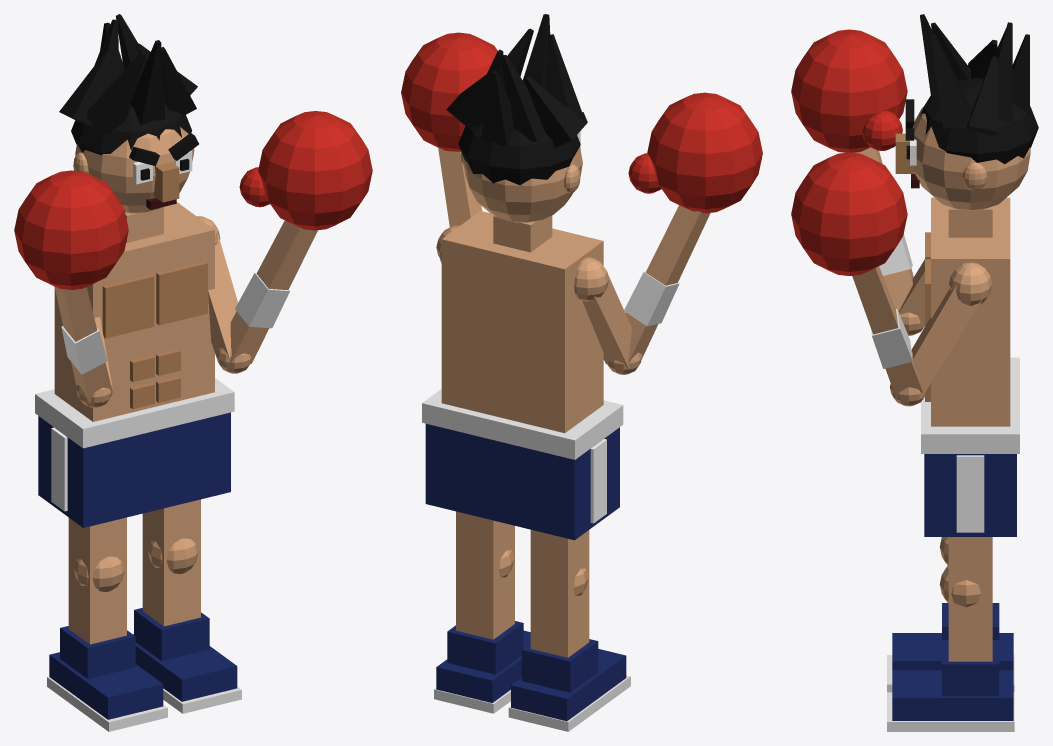
Rendered from boxeador_estratega.obj.
The picture shows the model from 3 angles, left to right: view 1: azimuth 30°, elevation 25°; view 2: azimuth 150°, elevation 25°; view 3: azimuth 270°, elevation 25°; orthographic projection. The views are drawn at different scales.
Visible parts, largest first — view 1: short, torso, guante_L, guante_R, pierna_L, pierna_R, cintura, zapato_L, cabeza, zapato_R, antebrazo_R, pecho_L (+23 smaller); view 2: torso, short, guante_L, guante_R, pierna_L, pierna_R, cintura, pelo_base, cabeza, zapato_L, antebrazo_L, caña_L (+19 smaller); view 3: torso, guante_R, guante_L, short, cabeza, pierna_R, zapato_R, pelo_base, cintura, brazo_R, antebrazo_R, zapato_L (+22 smaller).
Boxes of the visible parts, <box> form: short: <box>38,412,230,527</box>; torso: <box>54,202,214,421</box>; guante_L: <box>14,170,128,289</box>; guante_R: <box>258,111,372,230</box>; pierna_L: <box>68,517,126,644</box>; pierna_R: <box>142,499,200,626</box>; cintura: <box>35,378,234,448</box>; zapato_L: <box>49,652,163,719</box>; cabeza: <box>75,127,194,213</box>; zapato_R: <box>133,634,237,701</box>; antebrazo_R: <box>230,220,317,363</box>; pecho_L: <box>102,274,154,338</box>; torso: <box>441,211,603,433</box>; short: <box>425,423,619,540</box>; guante_L: <box>647,92,762,213</box>; guante_R: <box>401,32,497,151</box>; pierna_L: <box>530,529,589,657</box>; pierna_R: <box>456,511,514,639</box>; cintura: <box>422,389,623,459</box>; pelo_base: <box>458,124,580,185</box>; cabeza: <box>462,146,582,222</box>; zapato_L: <box>511,649,626,721</box>; antebrazo_L: <box>625,205,710,363</box>; caña_L: <box>521,639,598,692</box>; torso: <box>931,197,1010,426</box>; guante_R: <box>791,152,907,275</box>; guante_L: <box>791,29,907,152</box>; short: <box>924,454,1016,536</box>; cabeza: <box>912,106,1030,210</box>; pierna_R: <box>948,537,992,661</box>; zapato_R: <box>892,670,1013,720</box>; pelo_base: <box>920,78,1038,164</box>; cintura: <box>921,357,1019,453</box>; brazo_R: <box>911,283,984,398</box>; antebrazo_R: <box>852,266,922,399</box>; zapato_L: <box>892,633,1013,670</box>.
Size of the model in its own units: 1.86 by 3.42 by 1.12.
